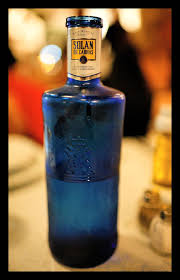solan de cabras: (21, 11, 138, 272)
